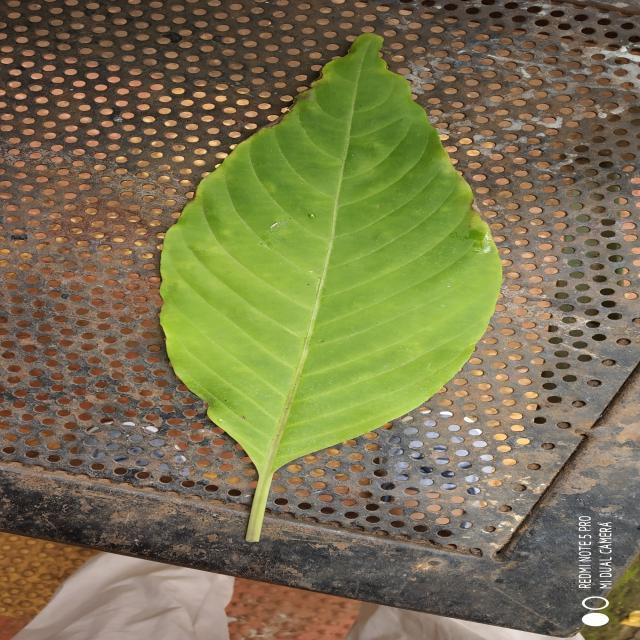malabar_nut: (160, 34, 502, 541)
